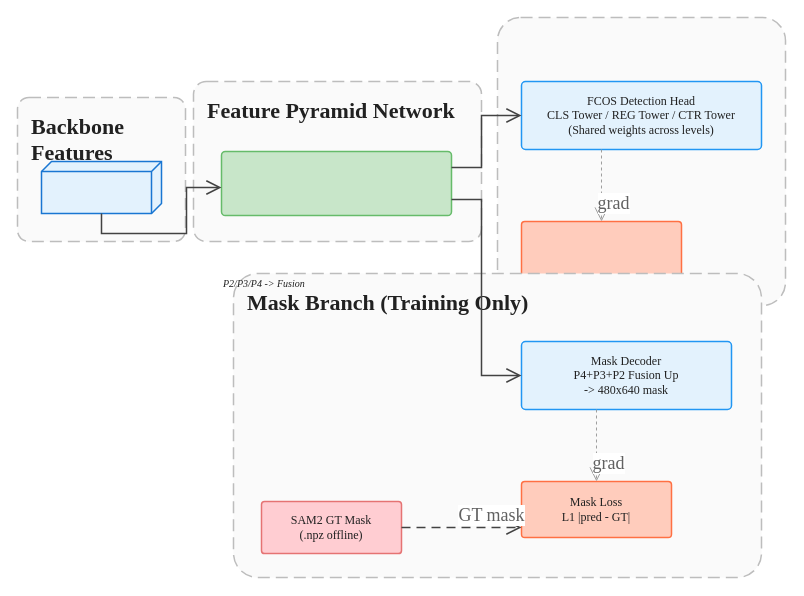
The diagram is 804 pixels wide and 596 high, and some of its shapes have lost their labels. The shapes that lost their labels are listed below. From the top down, each one's box as (x1, y1, x2, y2) in pixels, then its label:
(496, 16, 786, 306): Detection Branch (Training Only)
(40, 160, 162, 214): F2 / F3 / F4 from ResNet18
(220, 150, 452, 216): Feature Pyramid Network P2 (60x80) / P3 (30x40) / P4 (15x20)
(520, 220, 682, 278): Detection Loss Focal + L1 + BCE
